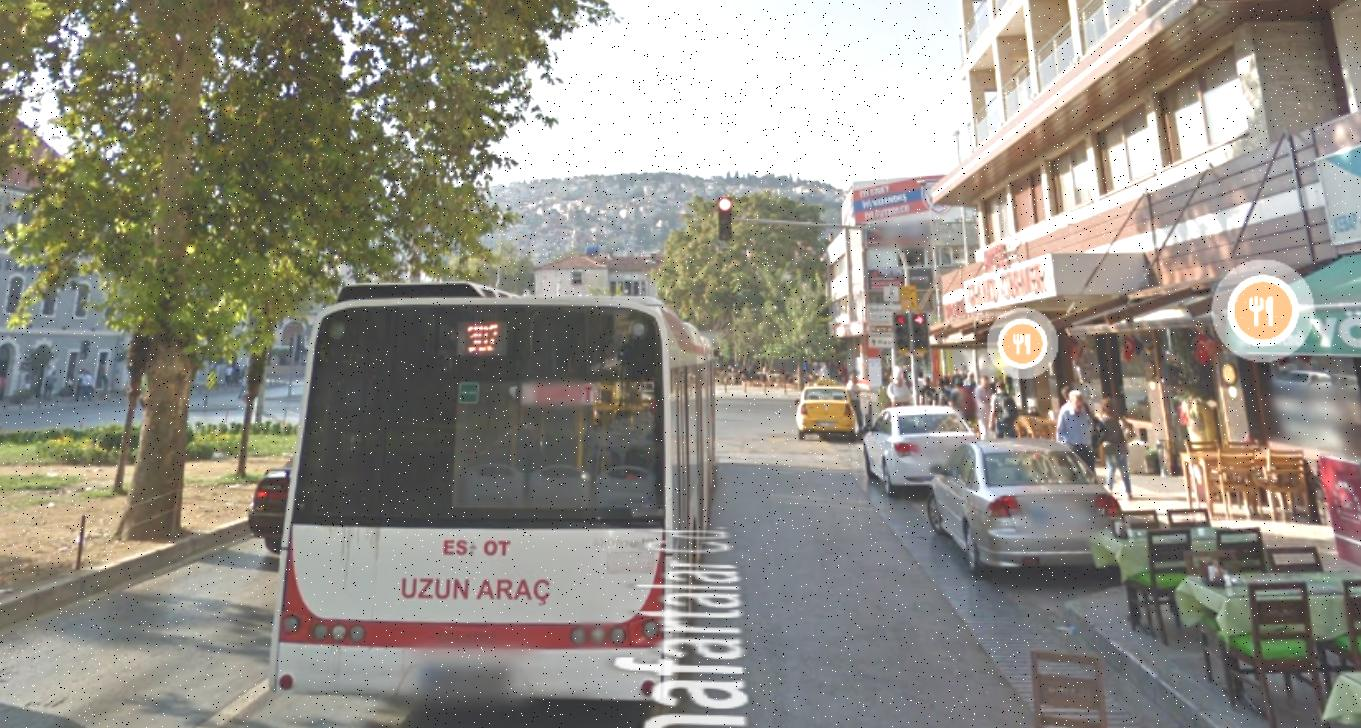redlight: (717, 193, 734, 236), (893, 313, 911, 349), (913, 314, 930, 347)
